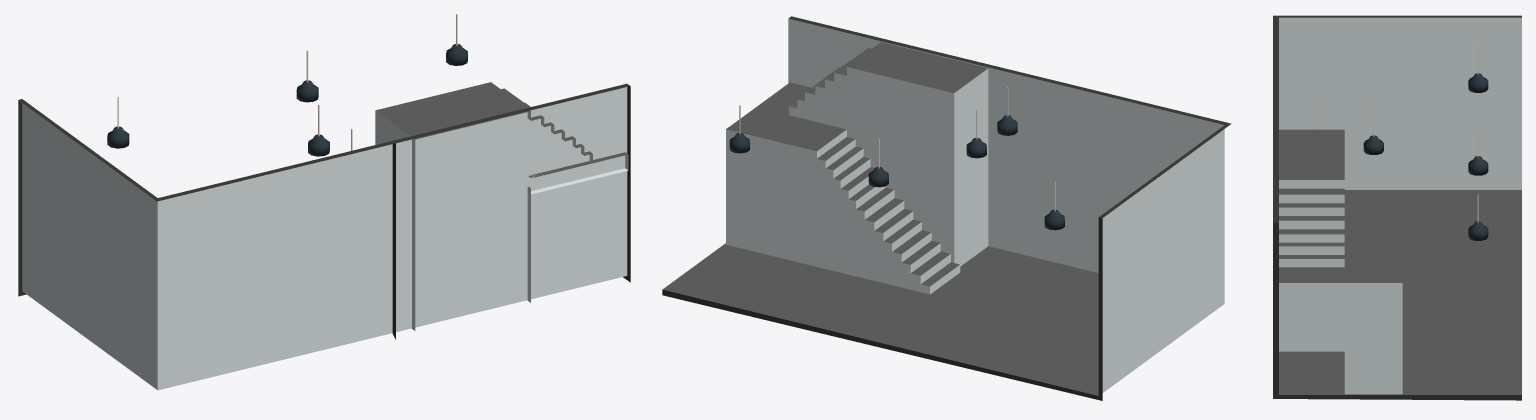
Rendered from Coffe_room.fbx.
3 views of the same model, side by side, from view 1: azimuth 30°, elevation 25°; view 2: azimuth 150°, elevation 25°; view 3: azimuth 270°, elevation 25° (orthographic). The views are drawn at different scales.
Visible parts, largest first — view 1: Coffe_room, Coffe_room.001; view 2: Coffe_room, Coffe_room.001; view 3: Coffe_room, Coffe_room.001.
Boxes of the visible parts, bbox=[...] form: Coffe_room: bbox=[18, 14, 630, 390]; Coffe_room.001: bbox=[375, 82, 628, 330]; Coffe_room: bbox=[662, 16, 1231, 400]; Coffe_room.001: bbox=[726, 42, 988, 294]; Coffe_room: bbox=[1273, 15, 1521, 400]; Coffe_room.001: bbox=[1279, 129, 1402, 394].
Bounding box in the file's own units: 8.27 × 3.42 × 4.26.
